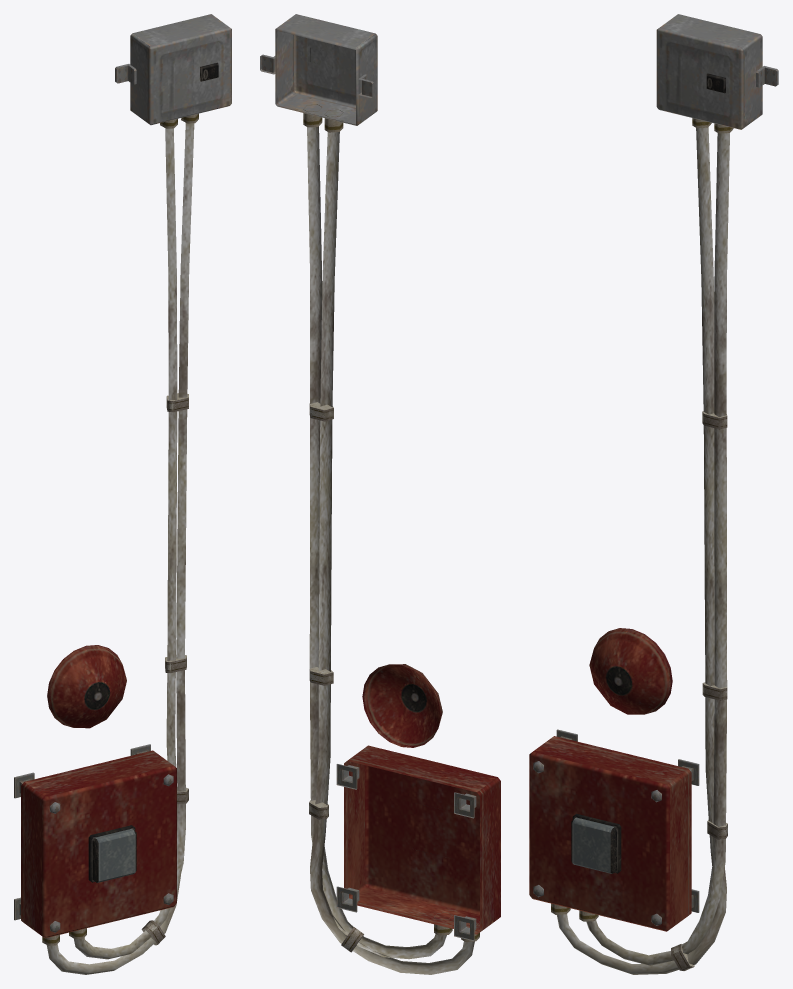
Rendered from sm21_013_firealarm01a.fbx.
3 views of the same model, side by side, from view 1: azimuth 30°, elevation 25°; view 2: azimuth 150°, elevation 25°; view 3: azimuth 330°, elevation 25° (orthographic). The views are drawn at different scales.
Visible parts, largest first — view 1: LOD_1_Group_0_Sub_1__sm21_013_FireAlarm01A_A_Mat; view 2: LOD_1_Group_0_Sub_1__sm21_013_FireAlarm01A_A_Mat; view 3: LOD_1_Group_0_Sub_1__sm21_013_FireAlarm01A_A_Mat.
Boxes of the visible parts, x1,y1,x2,y2 form: LOD_1_Group_0_Sub_1__sm21_013_FireAlarm01A_A_Mat: (14, 14, 231, 974); LOD_1_Group_0_Sub_1__sm21_013_FireAlarm01A_A_Mat: (260, 14, 500, 974); LOD_1_Group_0_Sub_1__sm21_013_FireAlarm01A_A_Mat: (529, 14, 778, 974).
Bounding box in the file's own units: 0.4 × 1.66 × 0.1152.
